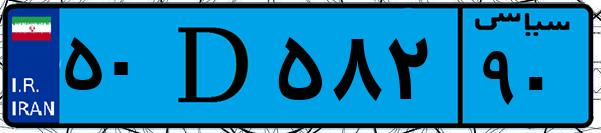0: (525, 38, 570, 115), (110, 28, 158, 98)
2: (385, 28, 445, 110)
5: (270, 28, 330, 110), (57, 26, 110, 100)
8: (330, 28, 385, 110)
9: (475, 38, 525, 113)
D: (158, 12, 270, 120)
